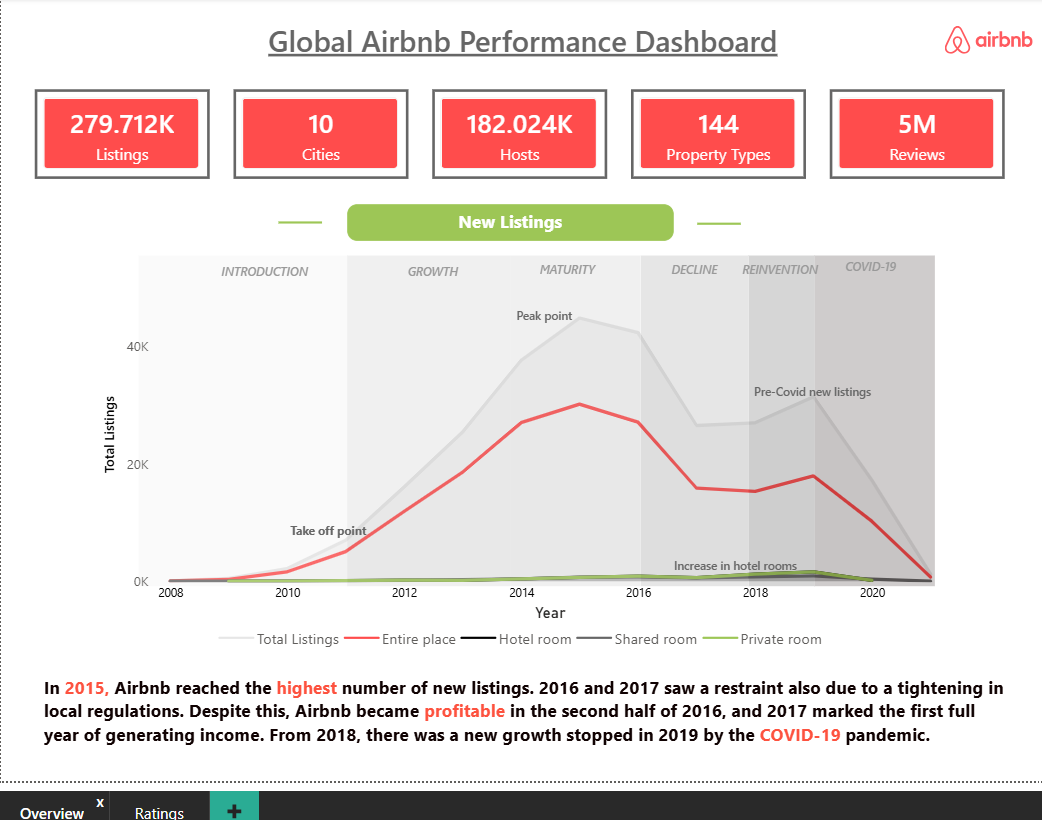

The page's visual inventory and layout, read from the dashboard file:
{"tool":"powerbi","page":{"name":"Overview","canvas":[960,720],"ordinal":0},"visuals":[{"type":"textbox","box":[225.6,16.1,508.9,59.7],"z":0},{"type":"image","box":[867.3,16.1,80.4,44.8],"z":1000},{"type":"cardVisual","fields":{"Data":["CountNonNull(Listings.listing_id)"]},"box":[31.2,83.3,160.8,82.7],"z":2000},{"type":"cardVisual","fields":{"Data":["Count(Reviews.review_id)"]},"box":[761.8,83.3,160.8,82.7],"z":3000},{"type":"cardVisual","fields":{"Data":["Count(Listings.property_type)"]},"box":[579.1,83.3,160.8,82.7],"z":4000},{"type":"cardVisual","fields":{"Data":["Count(Listings.host_id)"]},"box":[396.5,83.3,160.8,82.7],"z":5000},{"type":"cardVisual","fields":{"Data":["Count(Listings.city)"]},"box":[213.9,83.3,160.8,82.7],"z":6000},{"type":"lineChart","fields":{"Category":["Listings.host_since.Variation.Date Hierarchy.Year"],"Y":["CountNonNull(Listings.listing_id)","Listings.Entire place1","Listings.Entire place","Listings.Shared room","Listings.Private room"]},"box":[89.1,253.2,781.8,354.5],"z":7000},{"type":"textbox","box":[318.2,189.6,300,33.8],"z":8000},{"type":"shape","box":[254.5,55.8,40.3,300],"z":9000},{"type":"shape","box":[640.3,57.1,40.3,300],"z":10000},{"type":"shape","box":[126,236.4,192.2,303.9],"z":11000},{"type":"shape","box":[687,236.4,61,303.9],"z":12000},{"type":"shape","box":[318.2,236.4,150.6,303.9],"z":13000},{"type":"shape","box":[588.3,236.4,98.7,303.9],"z":14000},{"type":"shape","box":[468.8,236.4,119.5,303.9],"z":15000},{"type":"shape","box":[748.1,236.4,110.4,303.9],"z":16000},{"type":"textbox","box":[189.6,236.4,105.2,28.6],"z":17000},{"type":"textbox","box":[348.1,236.4,97.4,41.6],"z":18000},{"type":"textbox","box":[480.5,233.8,80.5,41.6],"z":19000},{"type":"textbox","box":[601.3,233.8,72.7,41.6],"z":20000},{"type":"textbox","box":[670.1,233.8,92.2,40.3],"z":21000},{"type":"textbox","box":[762.3,232.5,72.7,41.6],"z":22000},{"type":"textbox","box":[261,474,89.6,64.9],"z":23000},{"type":"textbox","box":[468.8,276.6,80.5,29.9],"z":24000},{"type":"textbox","box":[613,506.5,135.1,31.2],"z":25000},{"type":"textbox","box":[687,346.8,126,40.3],"z":26000},{"type":"textbox","box":[153.2,193.5,145.5,119.5],"z":27000},{"type":"textbox","box":[33.9,616.9,892.2,81.8],"z":28000}]}

Visuals, with their boxes on the page's 960x720 design canvas (x1, y1, x2, y2). These are canvas units, not pixel positions in the 1042x820 screenshot, which may show the page scaled, cropped or inside an application window:
textbox: x1=226 y1=16 x2=734 y2=76
image: x1=867 y1=16 x2=948 y2=61
cardVisual - CountNonNull(Listings.listing_id): x1=31 y1=83 x2=192 y2=166
cardVisual - Count(Reviews.review_id): x1=762 y1=83 x2=923 y2=166
cardVisual - Count(Listings.property_type): x1=579 y1=83 x2=740 y2=166
cardVisual - Count(Listings.host_id): x1=396 y1=83 x2=557 y2=166
cardVisual - Count(Listings.city): x1=214 y1=83 x2=375 y2=166
lineChart - Listings.host_since.Variation.Date Hierarchy.Year x CountNonNull(Listings.listing_id): x1=89 y1=253 x2=871 y2=608
textbox: x1=318 y1=190 x2=618 y2=223
shape: x1=254 y1=56 x2=295 y2=356
shape: x1=640 y1=57 x2=681 y2=357
shape: x1=126 y1=236 x2=318 y2=540
shape: x1=687 y1=236 x2=748 y2=540
shape: x1=318 y1=236 x2=469 y2=540
shape: x1=588 y1=236 x2=687 y2=540
shape: x1=469 y1=236 x2=588 y2=540
shape: x1=748 y1=236 x2=858 y2=540
textbox: x1=190 y1=236 x2=295 y2=265
textbox: x1=348 y1=236 x2=446 y2=278
textbox: x1=480 y1=234 x2=561 y2=275
textbox: x1=601 y1=234 x2=674 y2=275
textbox: x1=670 y1=234 x2=762 y2=274
textbox: x1=762 y1=232 x2=835 y2=274
textbox: x1=261 y1=474 x2=351 y2=539
textbox: x1=469 y1=277 x2=549 y2=306
textbox: x1=613 y1=506 x2=748 y2=538
textbox: x1=687 y1=347 x2=813 y2=387
textbox: x1=153 y1=194 x2=299 y2=313
textbox: x1=34 y1=617 x2=926 y2=699
